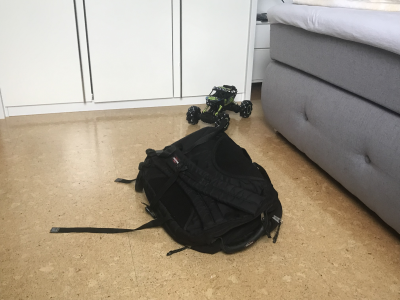remote control car: (182, 82, 254, 133)
